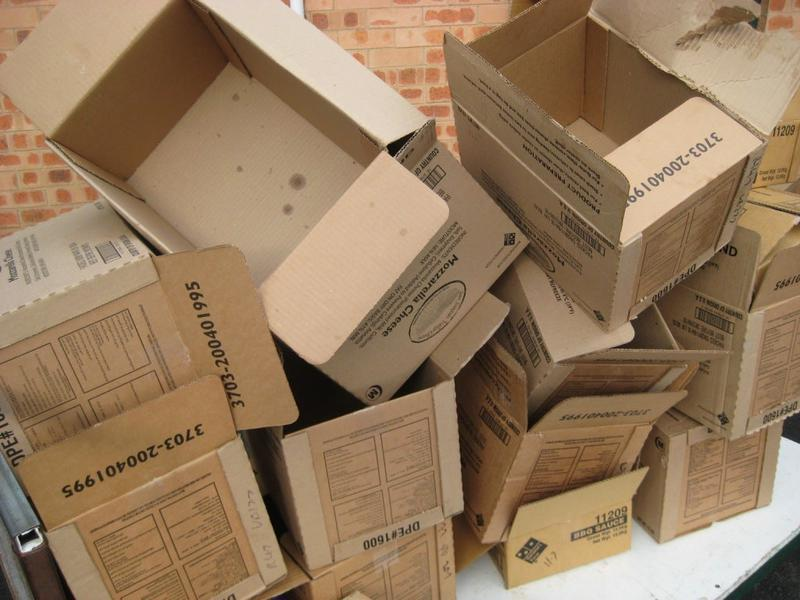cardboard: (1, 3, 453, 371), (442, 1, 800, 327), (3, 191, 303, 501), (465, 347, 683, 558), (25, 437, 288, 600), (268, 374, 476, 572)
